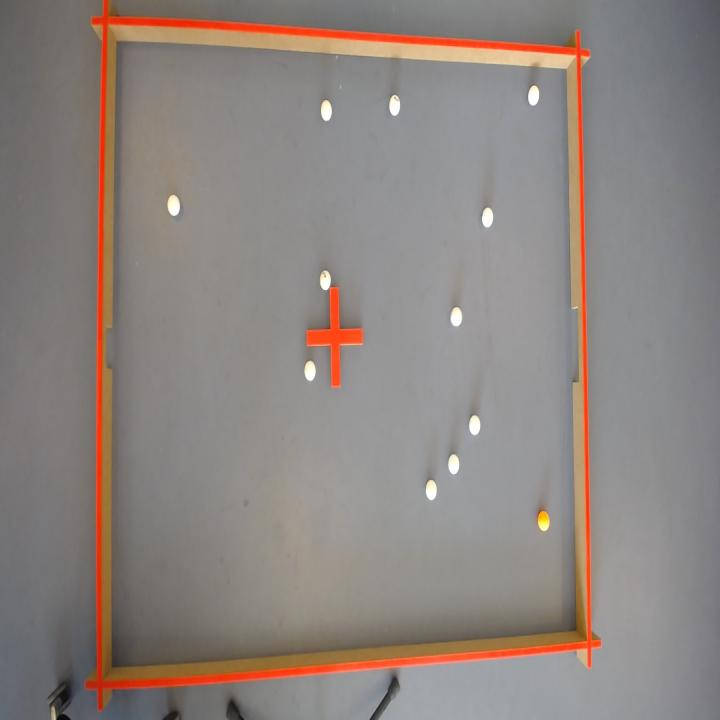orange: (538, 511, 550, 531)
white: (166, 193, 180, 215), (321, 98, 332, 120), (482, 206, 494, 226), (451, 306, 463, 326), (304, 360, 316, 380), (389, 93, 400, 114), (529, 83, 540, 104), (470, 414, 481, 435), (320, 269, 331, 289), (449, 454, 460, 474), (426, 480, 437, 500)
